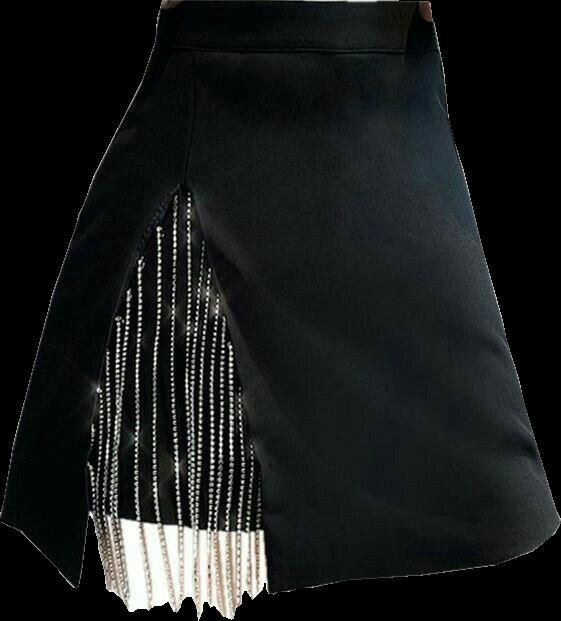Hemline: (0, 179, 560, 598)
Waistline: (152, 43, 441, 56), (159, 0, 431, 6)
